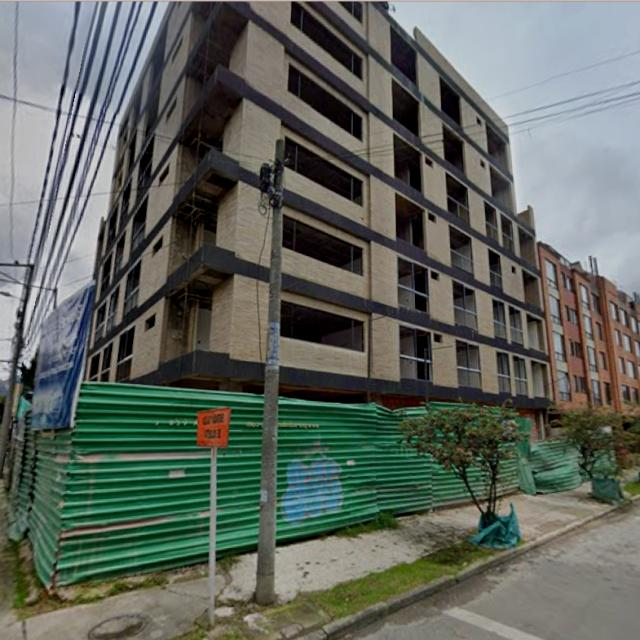fachada: (87, 2, 547, 419), (538, 243, 639, 410)
poste: (255, 140, 283, 605), (0, 265, 32, 475), (207, 447, 215, 626)
